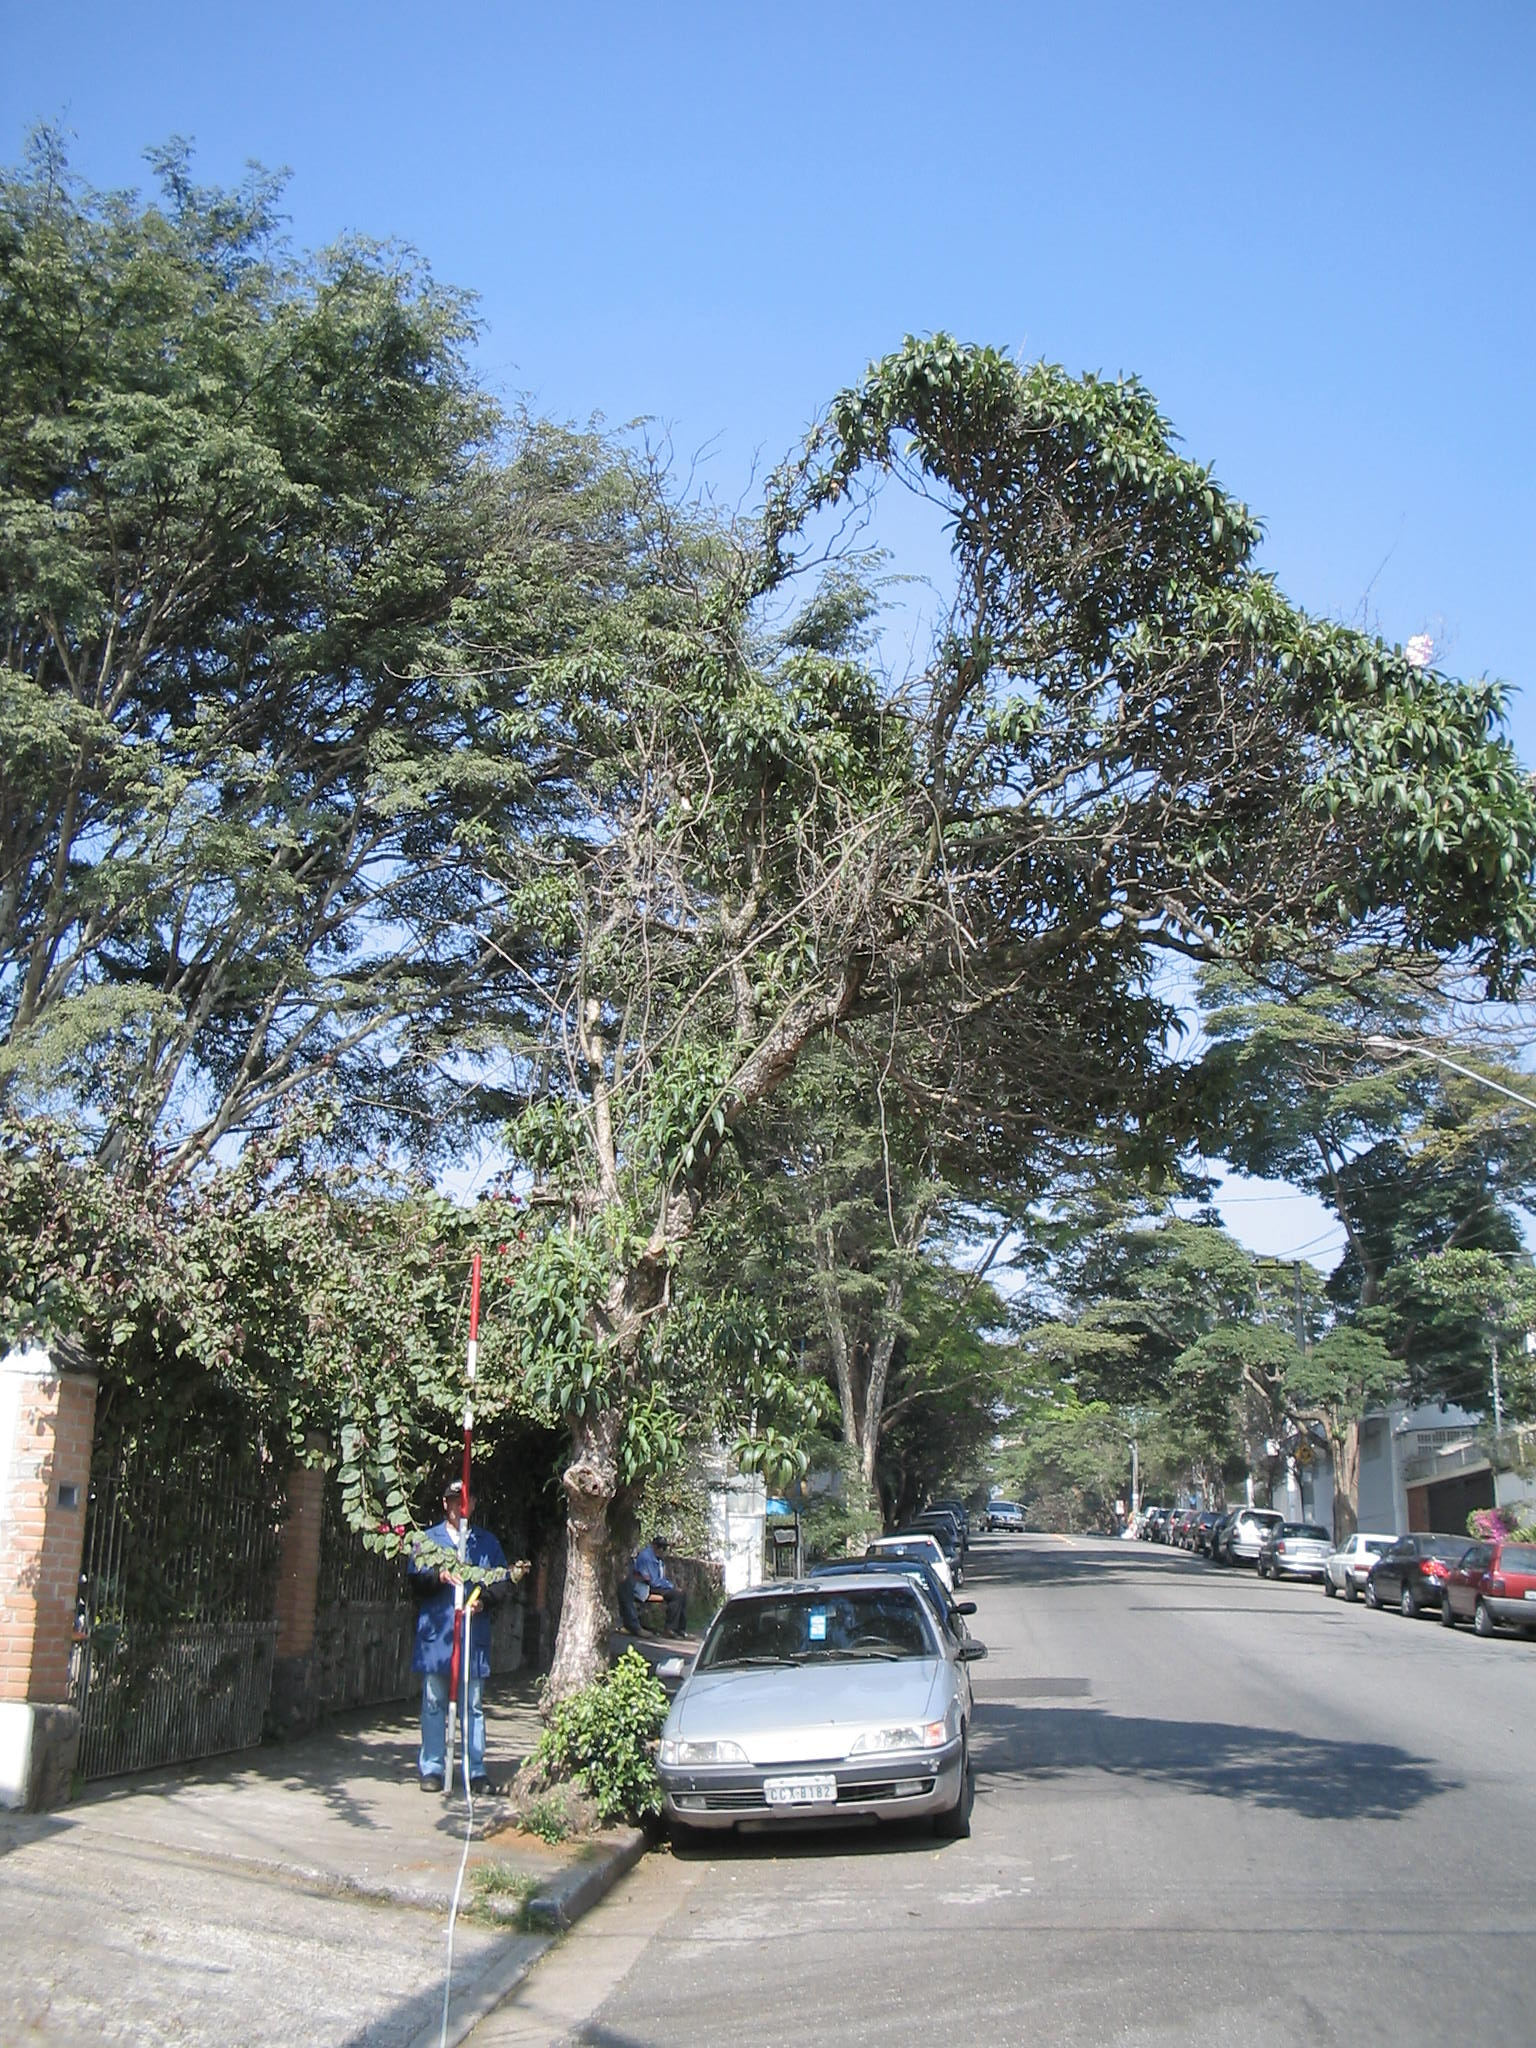crown: (379, 332, 1536, 1451)
stem: (513, 1417, 637, 1825)
stick: (421, 1251, 482, 1800)
tree: (371, 326, 1536, 1832)
